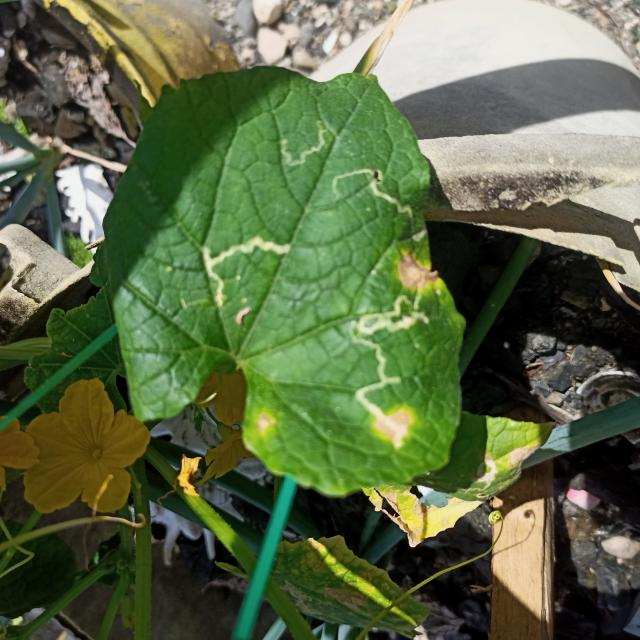disease_cucumber: (393, 251, 440, 292), (373, 406, 416, 444), (252, 409, 274, 439)
